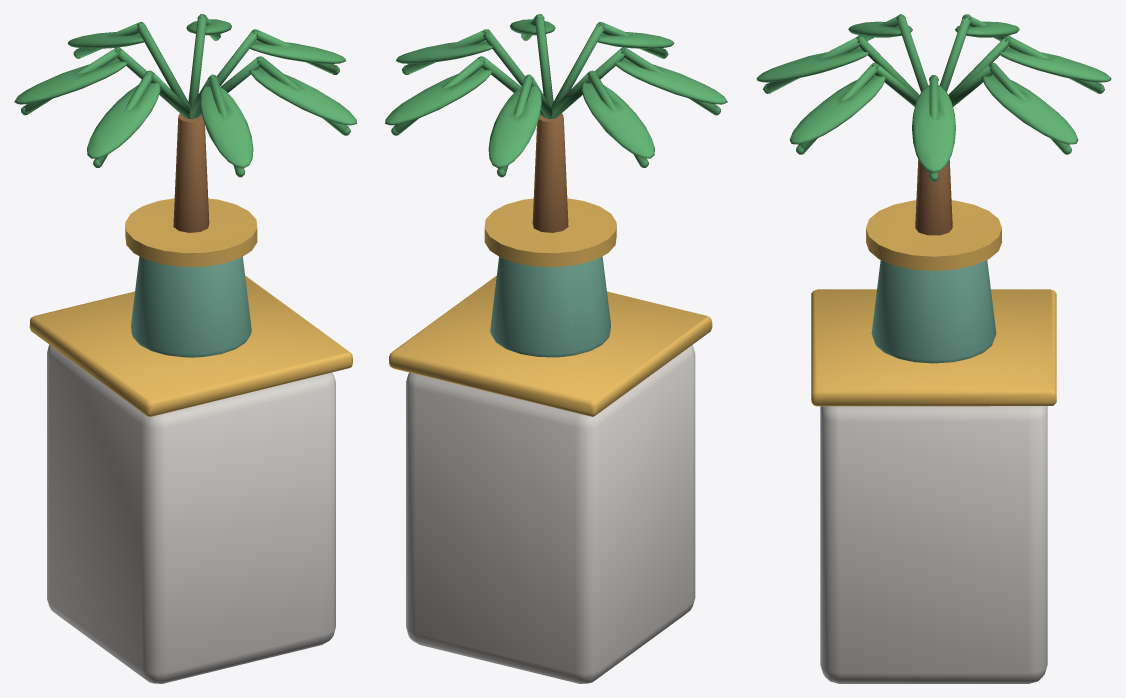
Rendered from gift-iris.glb.
The picture shows the model from 3 angles, left to right: view 1: azimuth 30°, elevation 25°; view 2: azimuth 150°, elevation 25°; view 3: azimuth 270°, elevation 25°; orthographic projection. The views are drawn at different scales.
Visible parts, largest first — view 1: gift-iris; view 2: gift-iris; view 3: gift-iris.
Part boxes in pixels (x1=…): gift-iris: x1=14, y1=14, x2=356, y2=683; gift-iris: x1=385, y1=14, x2=727, y2=683; gift-iris: x1=756, y1=14, x2=1111, y2=683.
Size of the model in its own units: 0.5499 by 1.05 by 0.5634.
